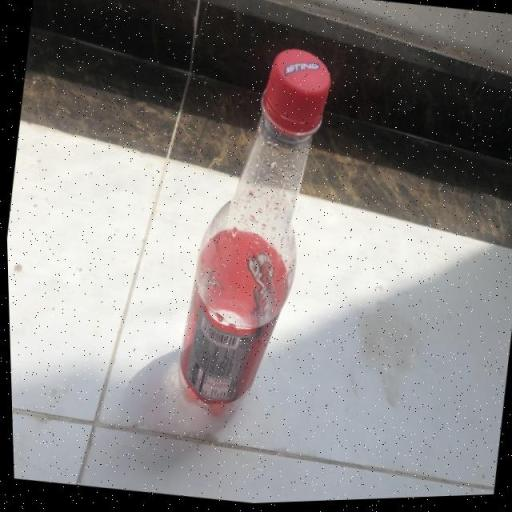plastic: (160, 39, 343, 437)
